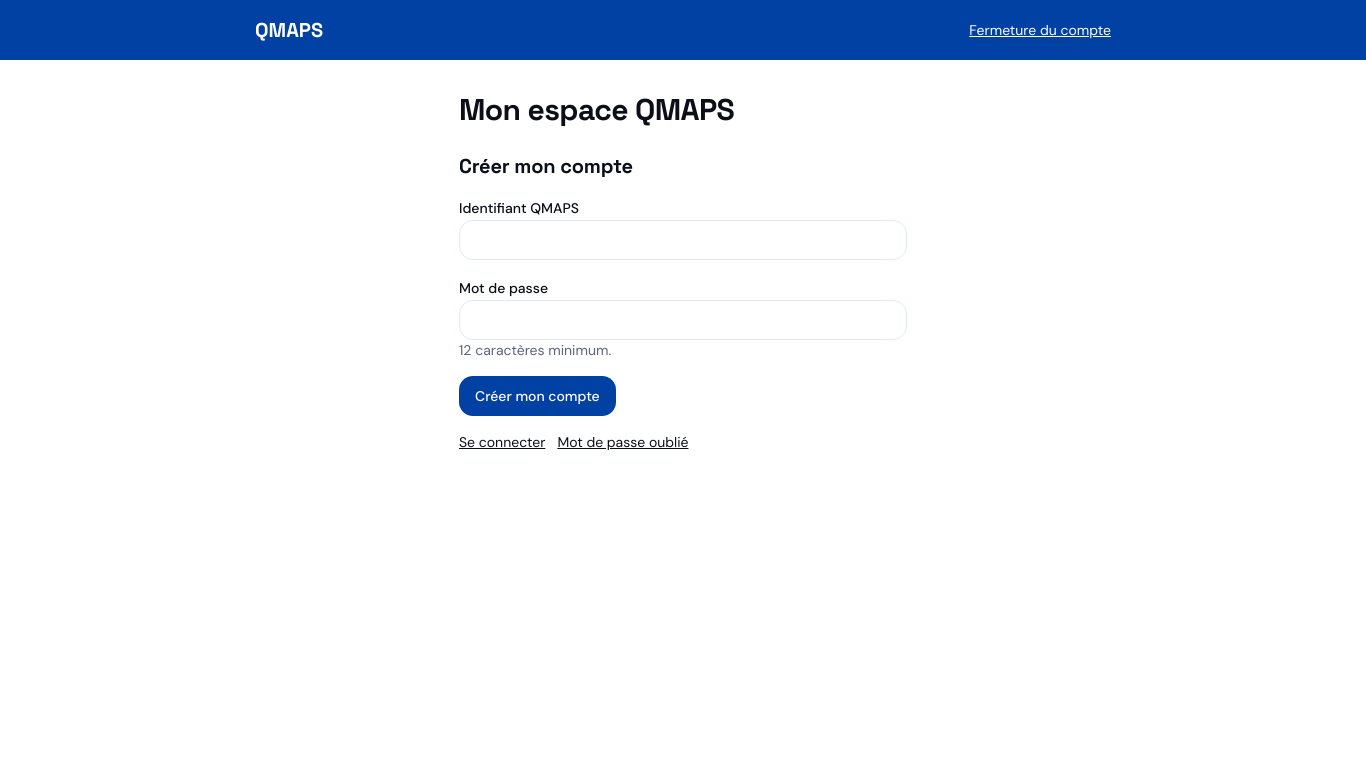
Test: entry to the owned account › opens registration by QMAPS identifier without starting a session write
Expected: the heading "Créer mon compte" is shown, [459, 153, 633, 179]
Expected: the label "Identifiant QMAPS" is shown, [459, 199, 579, 217]
Click the button "Se connecter" at (502, 442), box [459, 432, 545, 452]
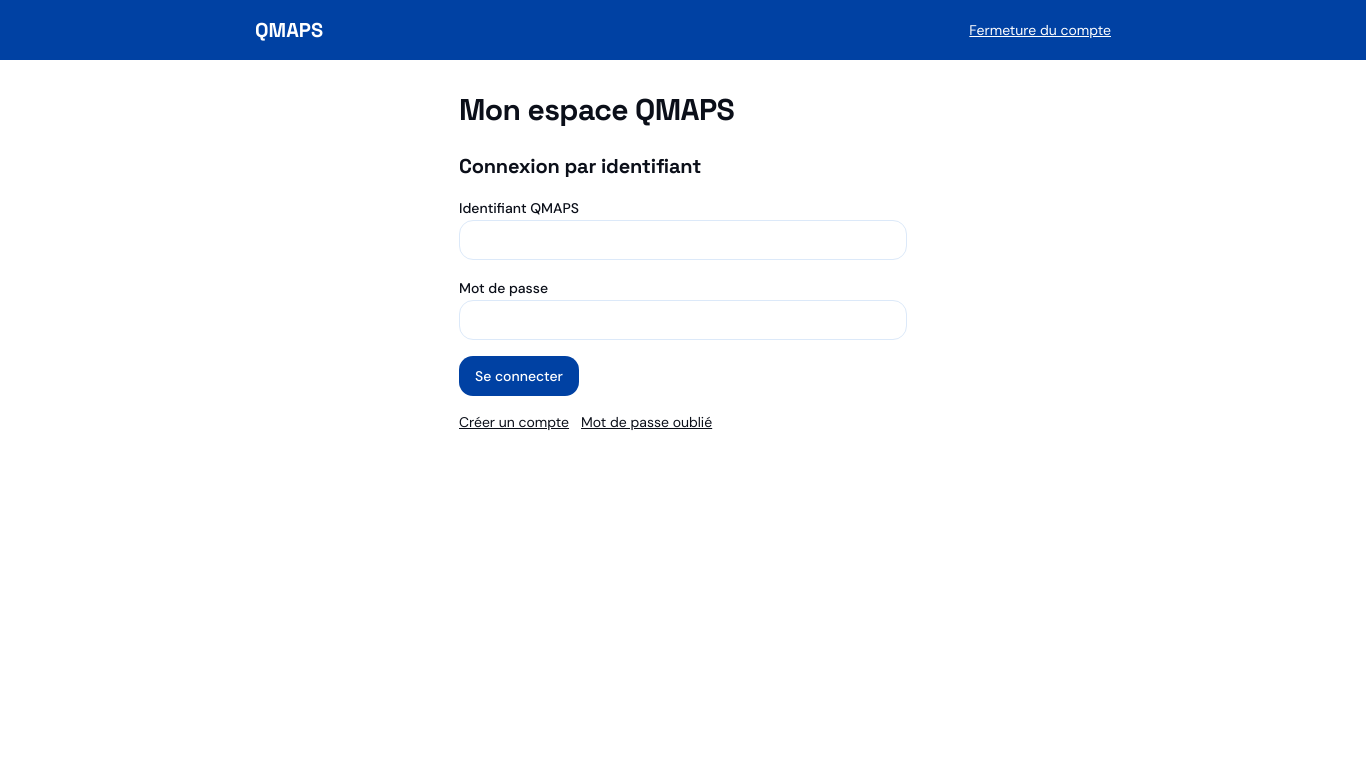
Result: the heading "Connexion par identifiant" is shown at [459, 153, 701, 179]
Click the button "Mot de passe oublié" at (647, 422), box [581, 412, 712, 432]
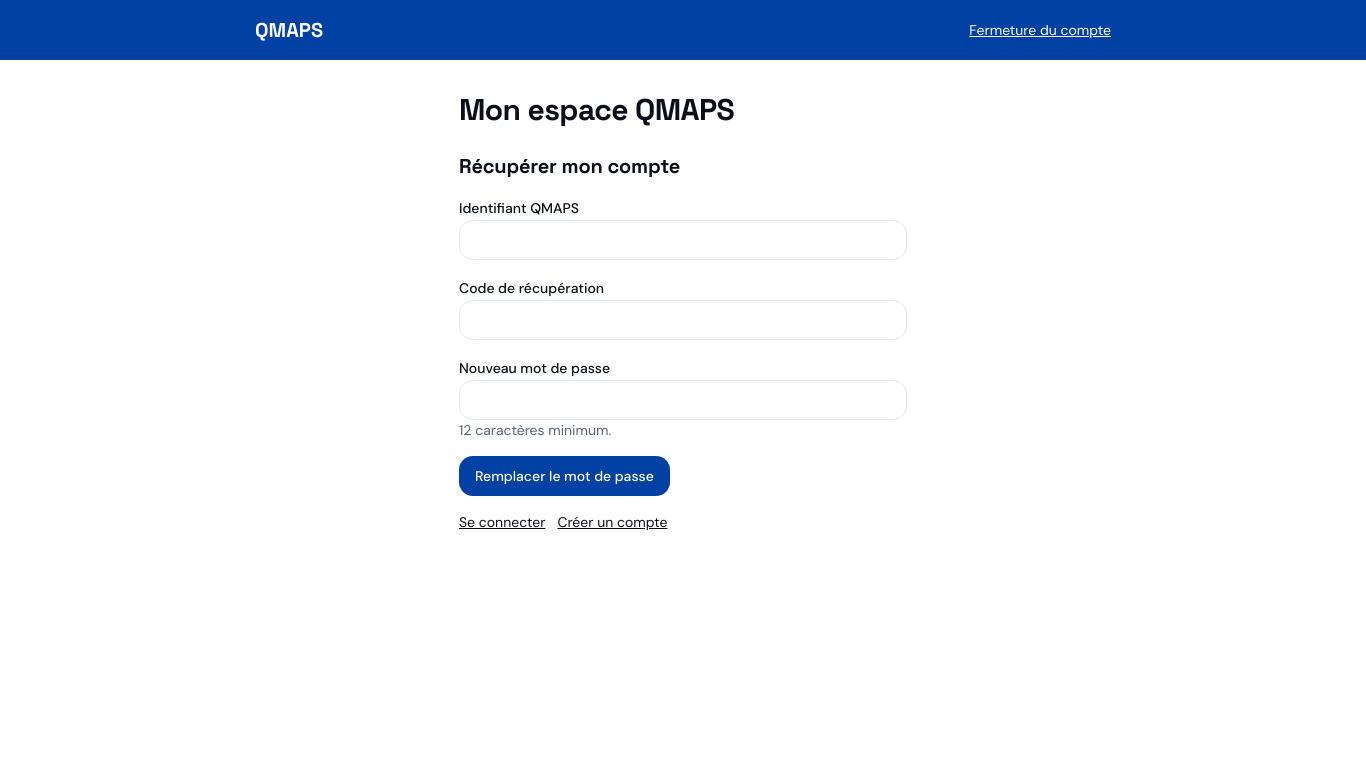
Expected: the password field labelled "Code de récupération" is shown, [459, 300, 907, 340]
Result: the heading "Récupérer mon compte" is shown at [459, 153, 680, 179]
